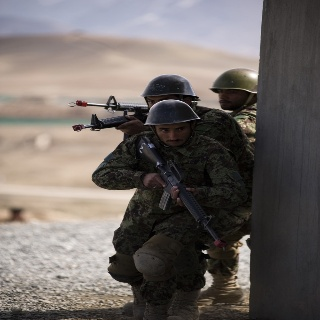rifle: (134, 137, 227, 249), (69, 109, 149, 134), (70, 92, 151, 114)
